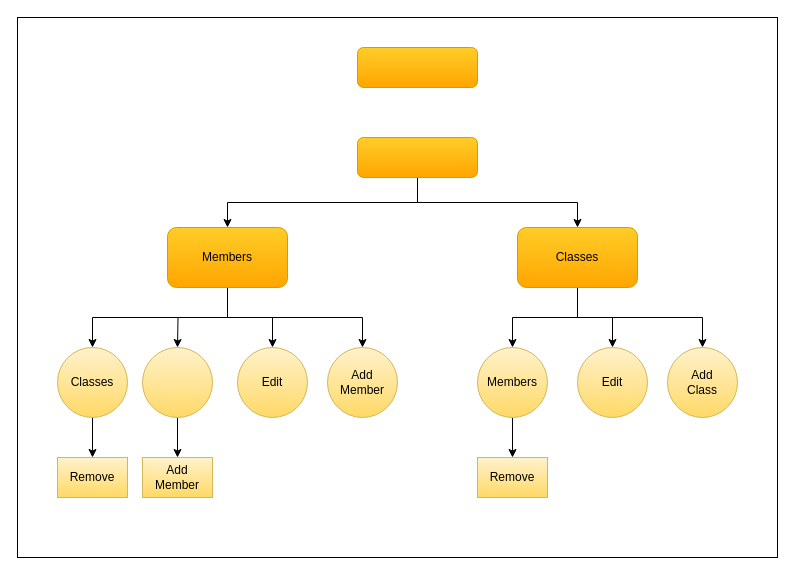
Image size: 795x575. Some labels were removed from this diagram. Here are the shapes that lost their labels. From the top down, the box of each, then its label:
(356, 46, 478, 88): "User Sitemap"
(356, 136, 478, 178): Home Page
(142, 346, 212, 418): Book
